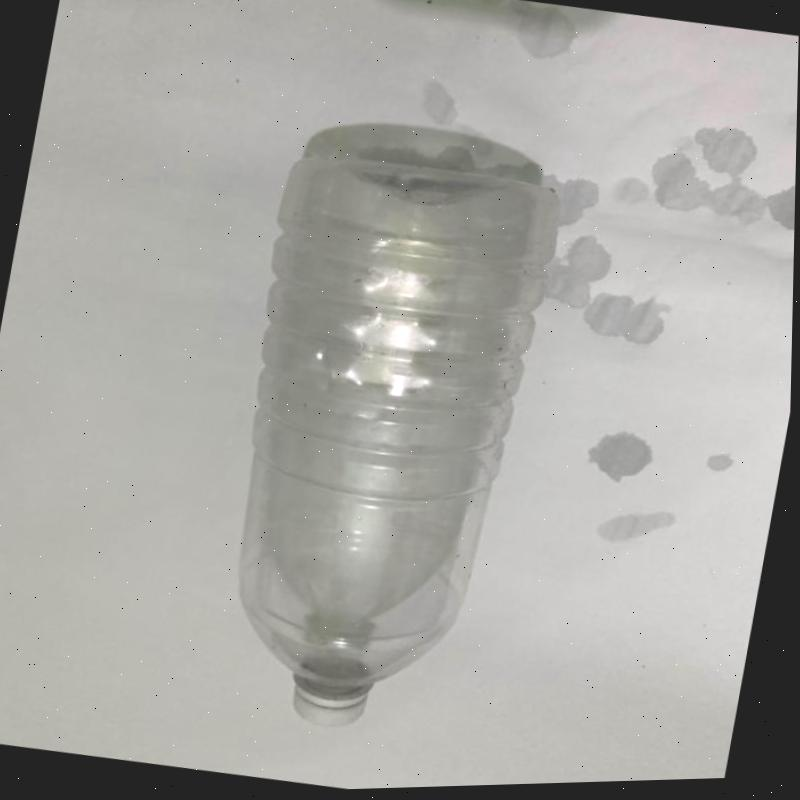botella: (185, 131, 571, 754)
